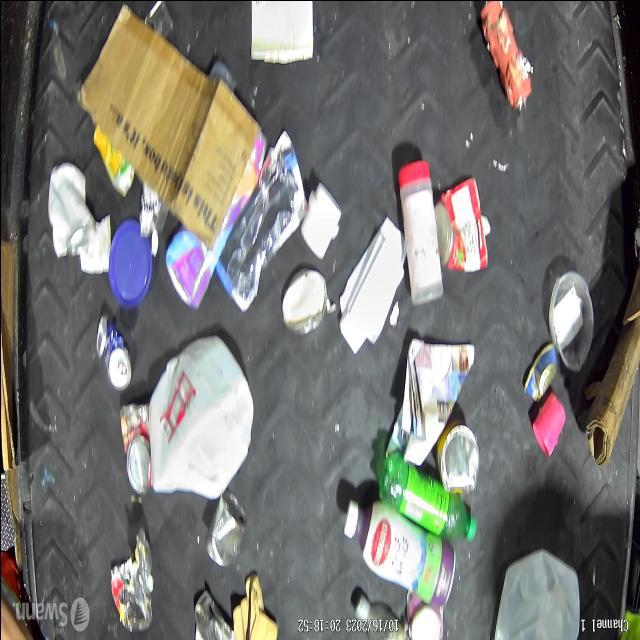can: (432, 412, 484, 508), (438, 190, 490, 277), (118, 395, 152, 503), (205, 488, 248, 570), (96, 307, 132, 401), (518, 342, 558, 412)
milk_jug: (144, 330, 256, 500), (486, 538, 586, 640)
plastic_bottle: (382, 444, 476, 544), (349, 592, 407, 640)
